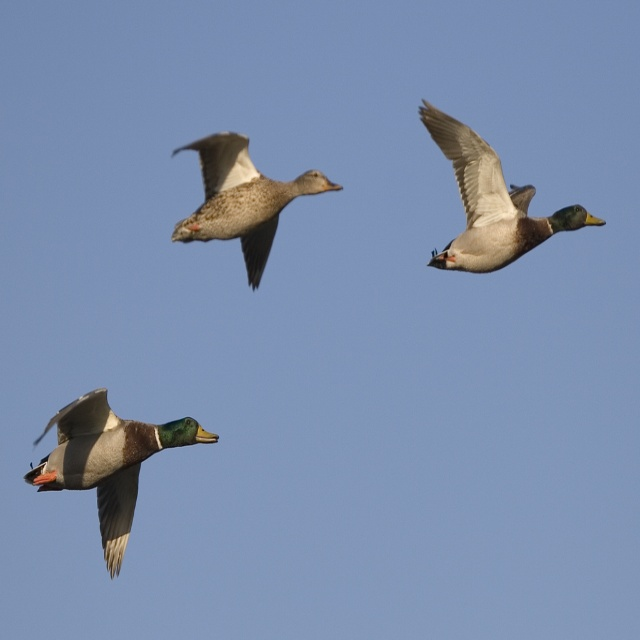Goose: (24, 380, 218, 576), (419, 110, 624, 287), (172, 134, 338, 296)
